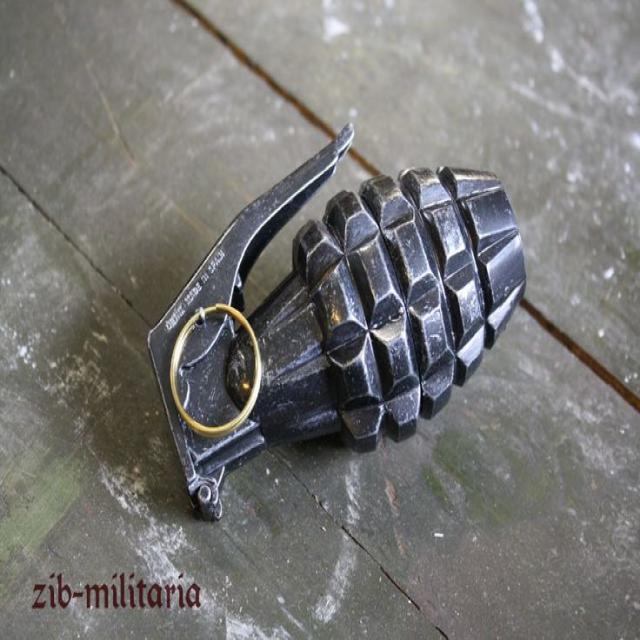bomb: (149, 126, 525, 518)
